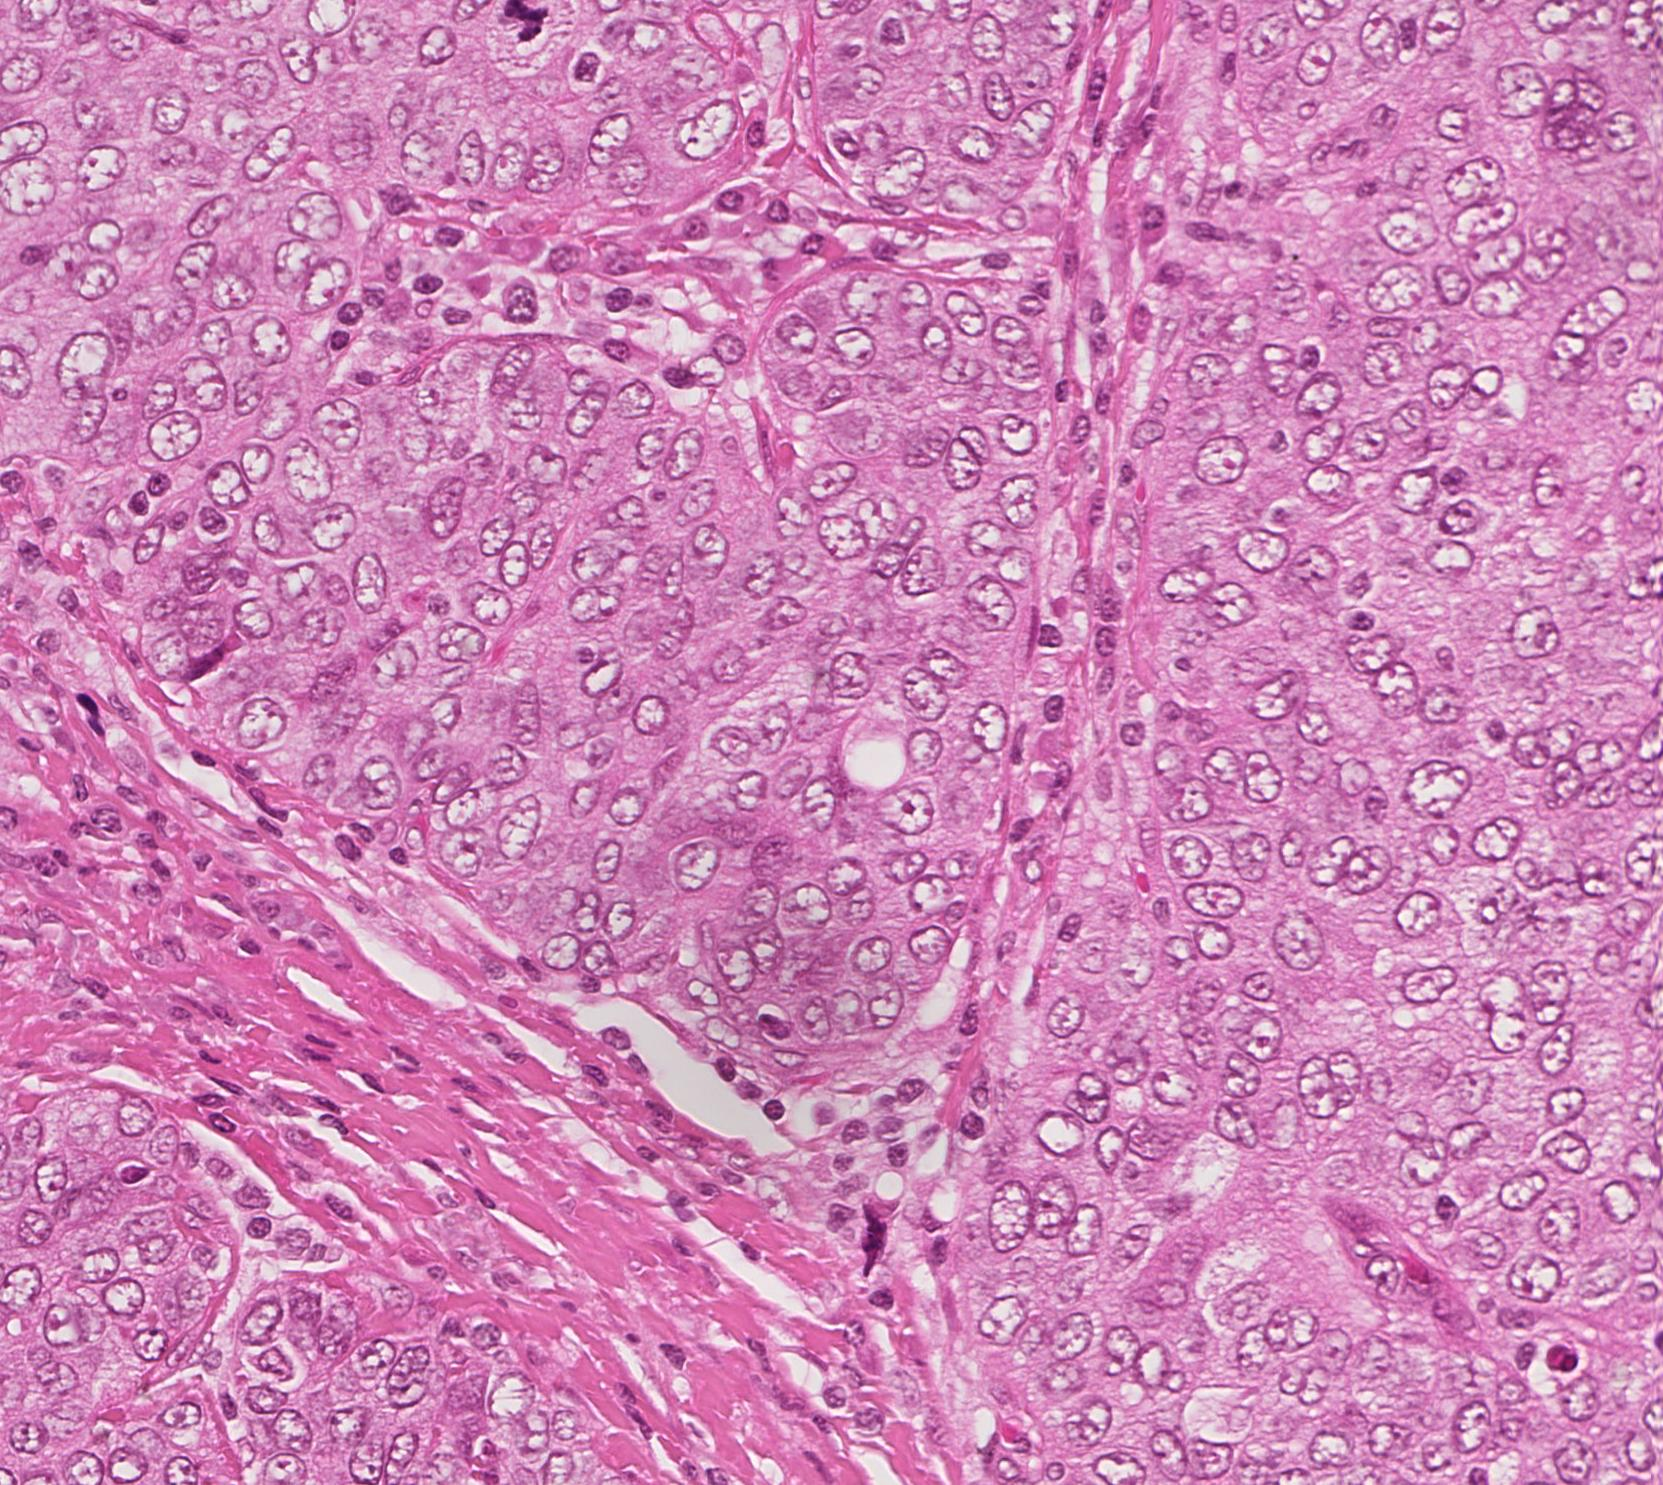mitosis: (495, 0, 555, 44)
